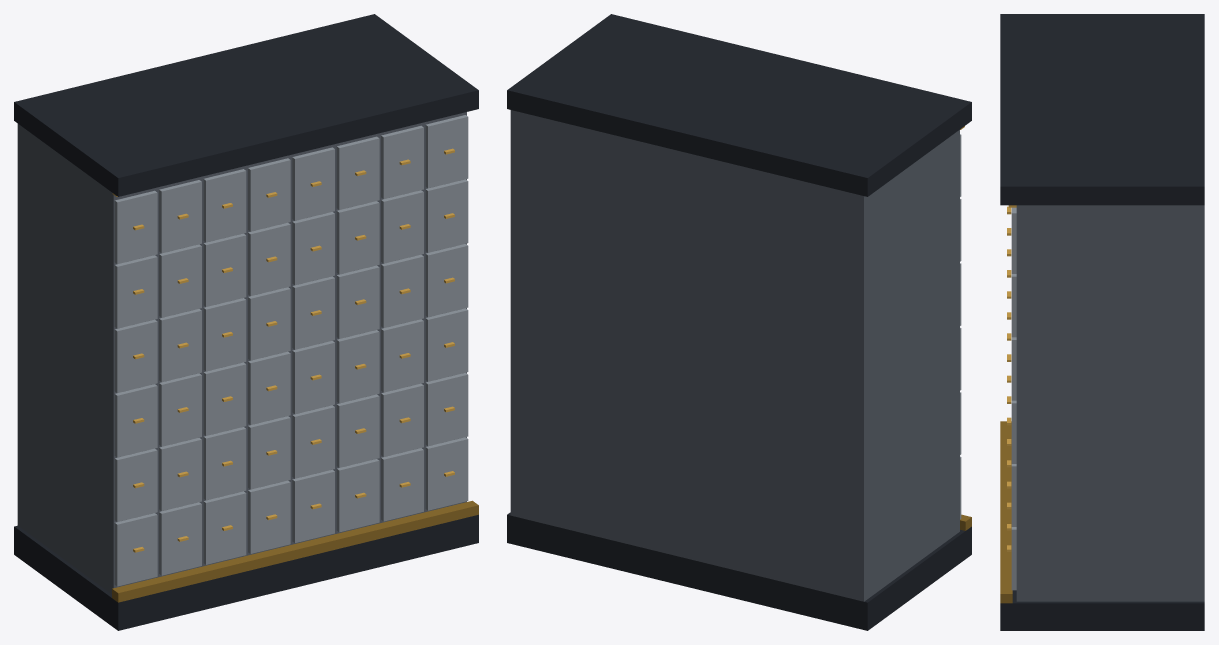
File: safe_deposit_wall.glb
3 views of the same model, side by side, from view 1: azimuth 30°, elevation 25°; view 2: azimuth 150°, elevation 25°; view 3: azimuth 270°, elevation 25° (orthographic).
Visible parts, largest first — view 1: safe_deposit_wall; view 2: safe_deposit_wall; view 3: safe_deposit_wall.
Boxes of the visible parts, x1,y1,x2,y2 form: safe_deposit_wall: [14, 14, 478, 630]; safe_deposit_wall: [507, 14, 971, 630]; safe_deposit_wall: [1000, 14, 1204, 630].
Bounding box in the file's own units: 2 × 2.4 × 1.
